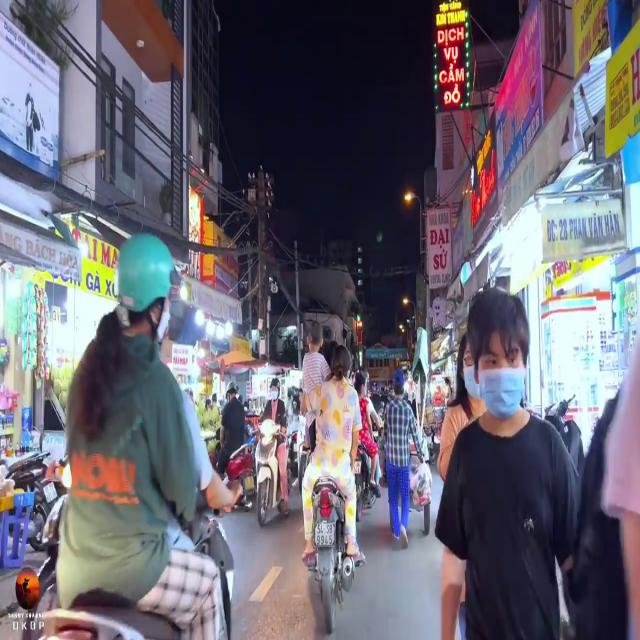bien_trang: (314, 520, 336, 550)
